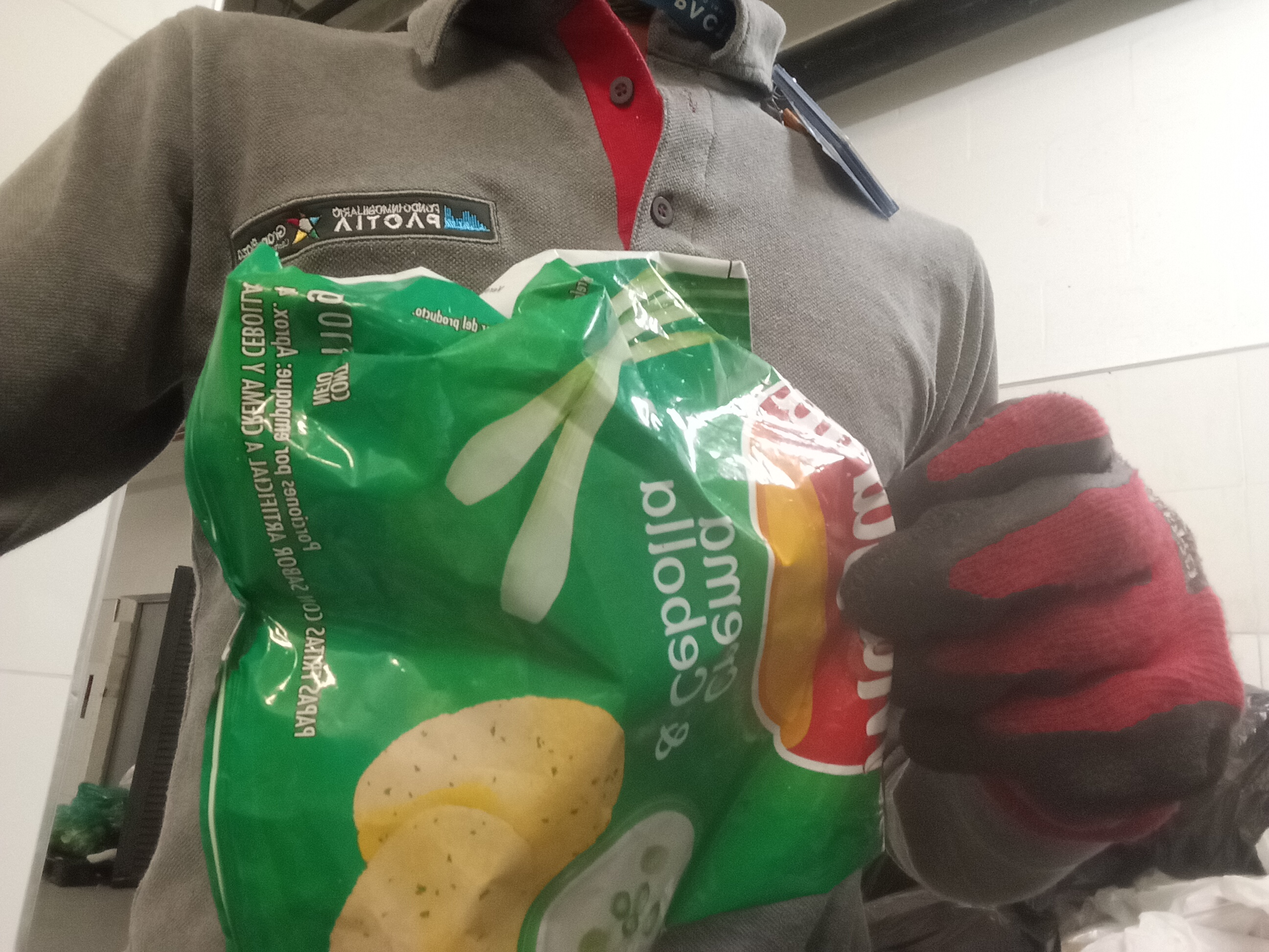Ordinario: (179, 247, 901, 952)
